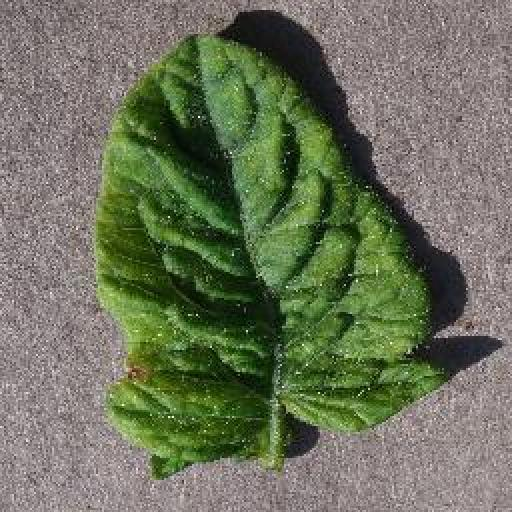disease_tomato: (97, 26, 444, 482)
